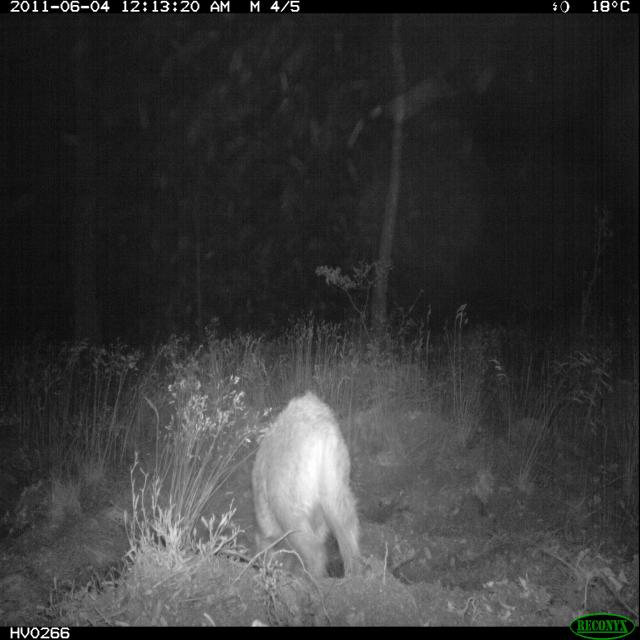boar: (203, 356, 404, 606)
